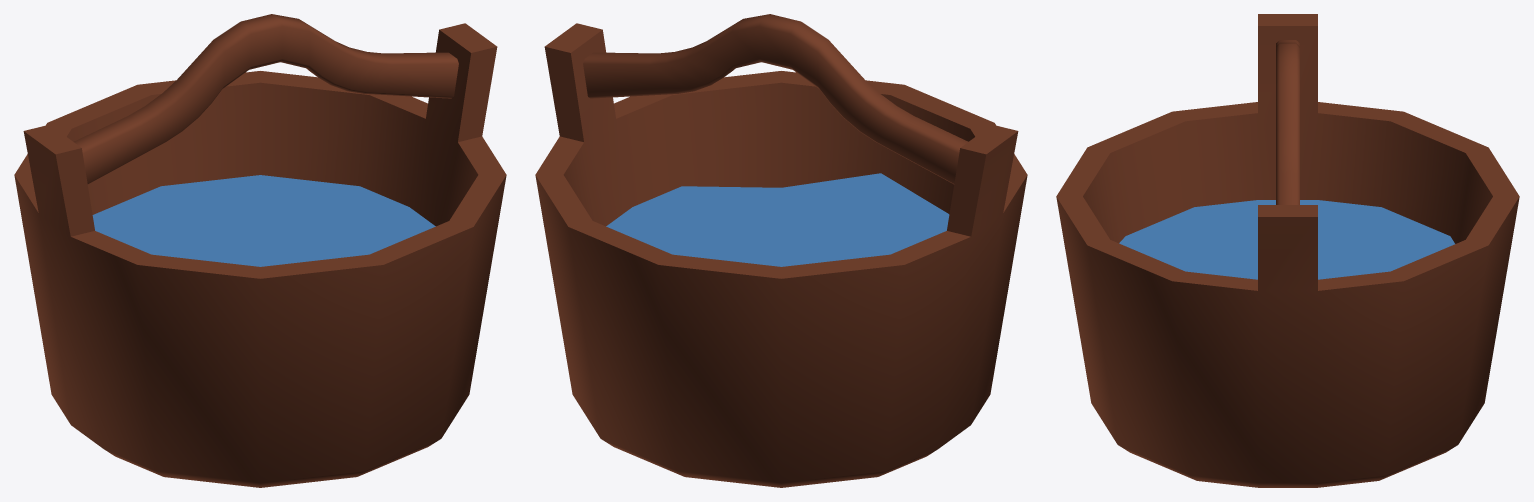
The model's file is Bucket_2.fbx.
The picture shows the model from 3 angles, left to right: view 1: azimuth 30°, elevation 25°; view 2: azimuth 150°, elevation 25°; view 3: azimuth 270°, elevation 25°; orthographic projection. The views are drawn at different scales.
Parts seen in each view (by area): view 1: Bucket_2; view 2: Bucket_2; view 3: Bucket_2.
Boxes of the visible parts, left/top/right/bottom form: Bucket_2: left=14, top=14, right=506, bottom=487; Bucket_2: left=535, top=14, right=1027, bottom=487; Bucket_2: left=1056, top=14, right=1519, bottom=487.
Bounding box in the file's own units: 54.19 × 45.15 × 52.3.
